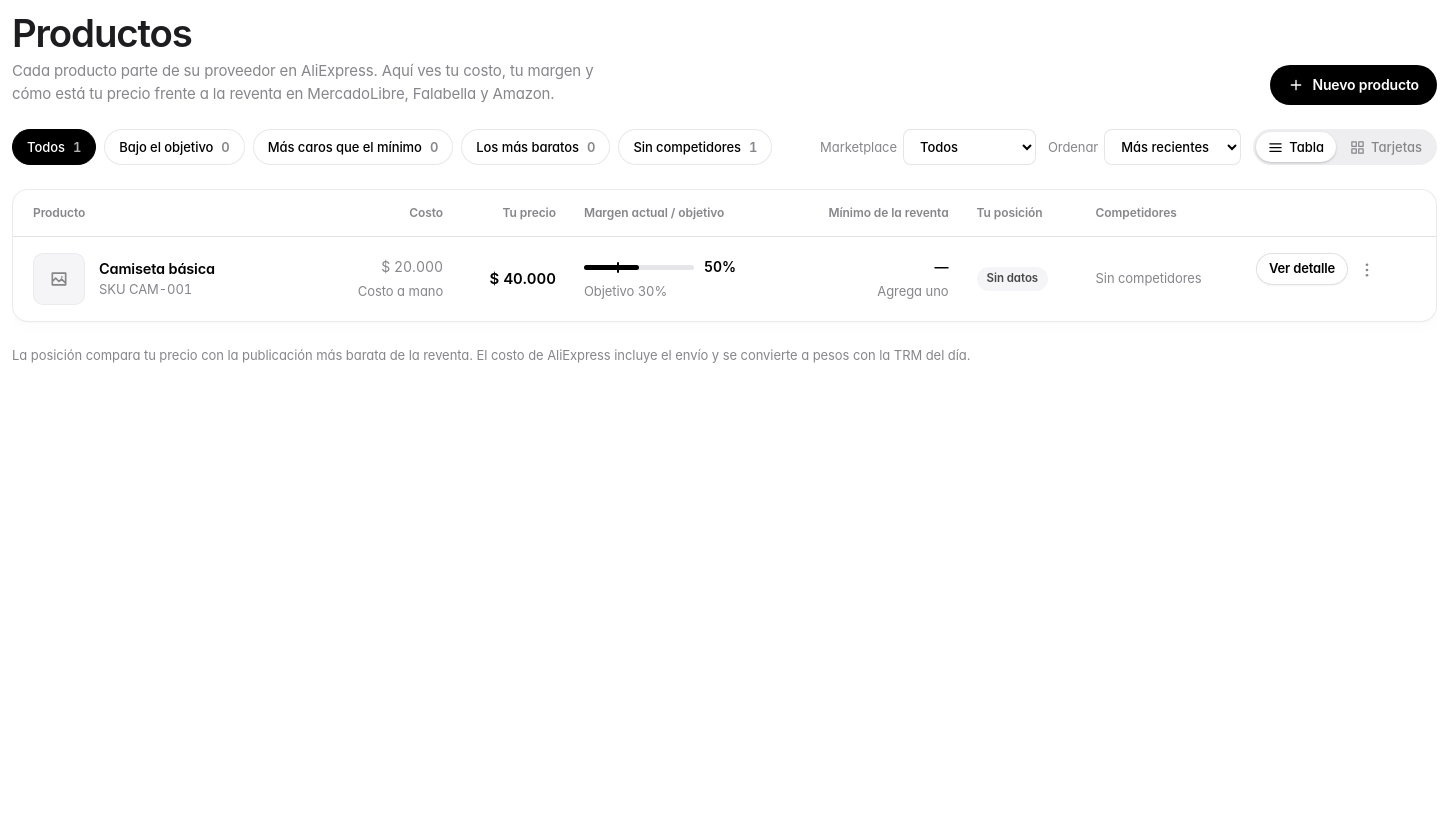
Test case: productos › muestra los productos en tarjetas con el precio en paletas
The width and height of the screenshot is (1452, 822).
Click the button "Tarjetas".
click(1386, 147)  # box x1=1338 y1=132 x2=1434 y2=162
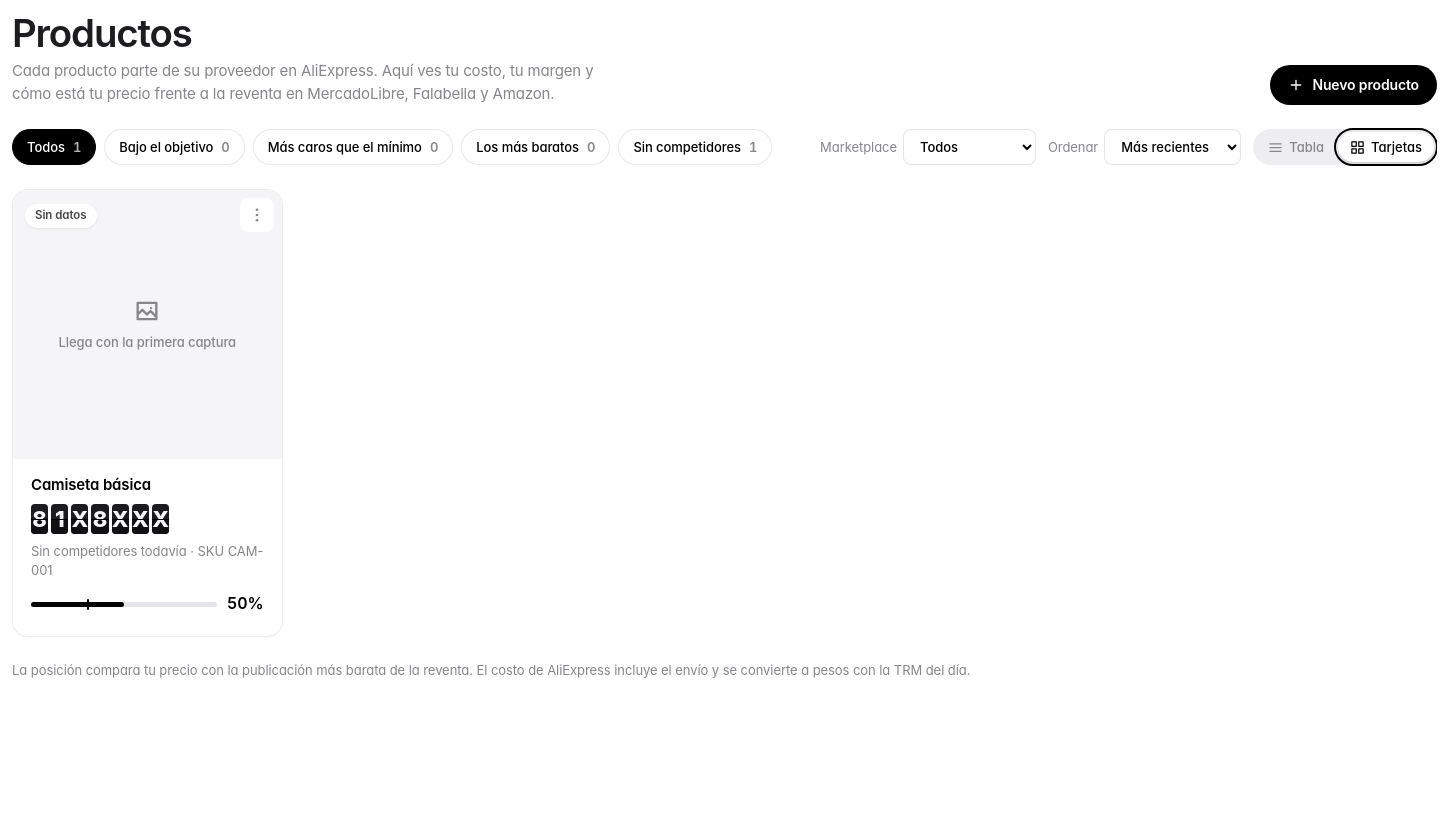
Check: the table is gone
Check: the picture named "40.000" is shown, box x1=31 y1=504 x2=169 y2=534
